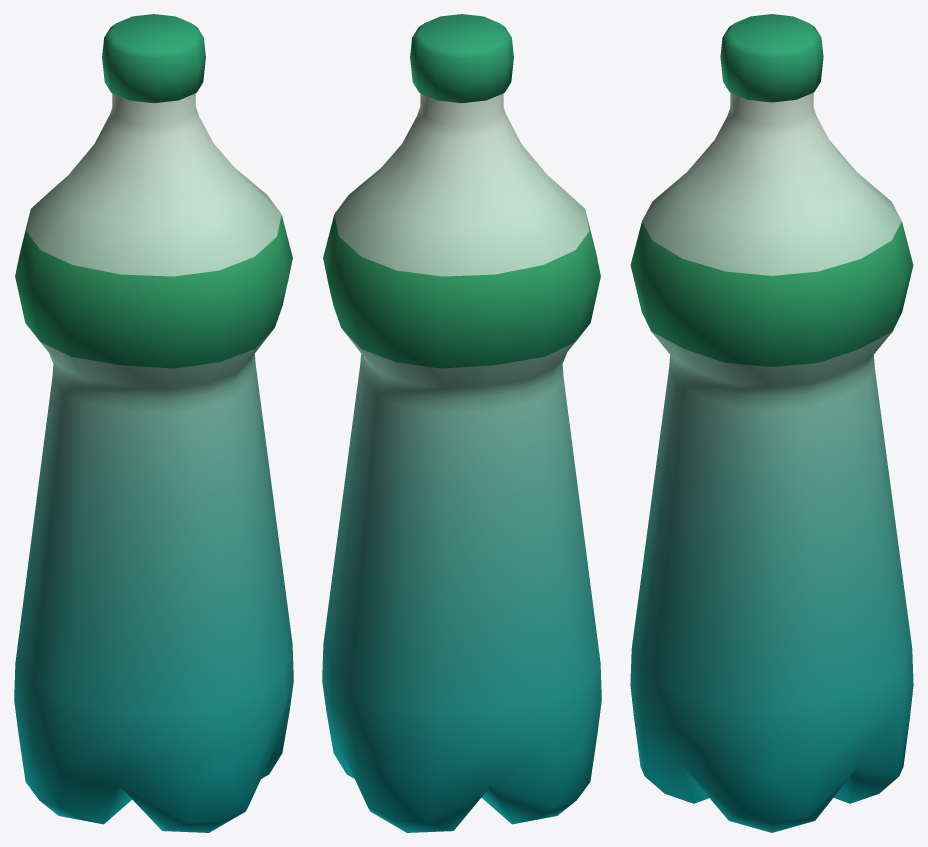
File: bottle_007.fbx
The picture shows the model from 3 angles, left to right: view 1: azimuth 30°, elevation 25°; view 2: azimuth 150°, elevation 25°; view 3: azimuth 270°, elevation 25°; orthographic projection.
Visible parts, largest first — view 1: bottle_007; view 2: bottle_007; view 3: bottle_007.
Part boxes in pixels (x1=…): bottle_007: x1=14, y1=14, x2=293, y2=832; bottle_007: x1=322, y1=14, x2=601, y2=832; bottle_007: x1=630, y1=14, x2=913, y2=832.
Size of the model in its own units: 8.67 by 8.67 by 25.88.
